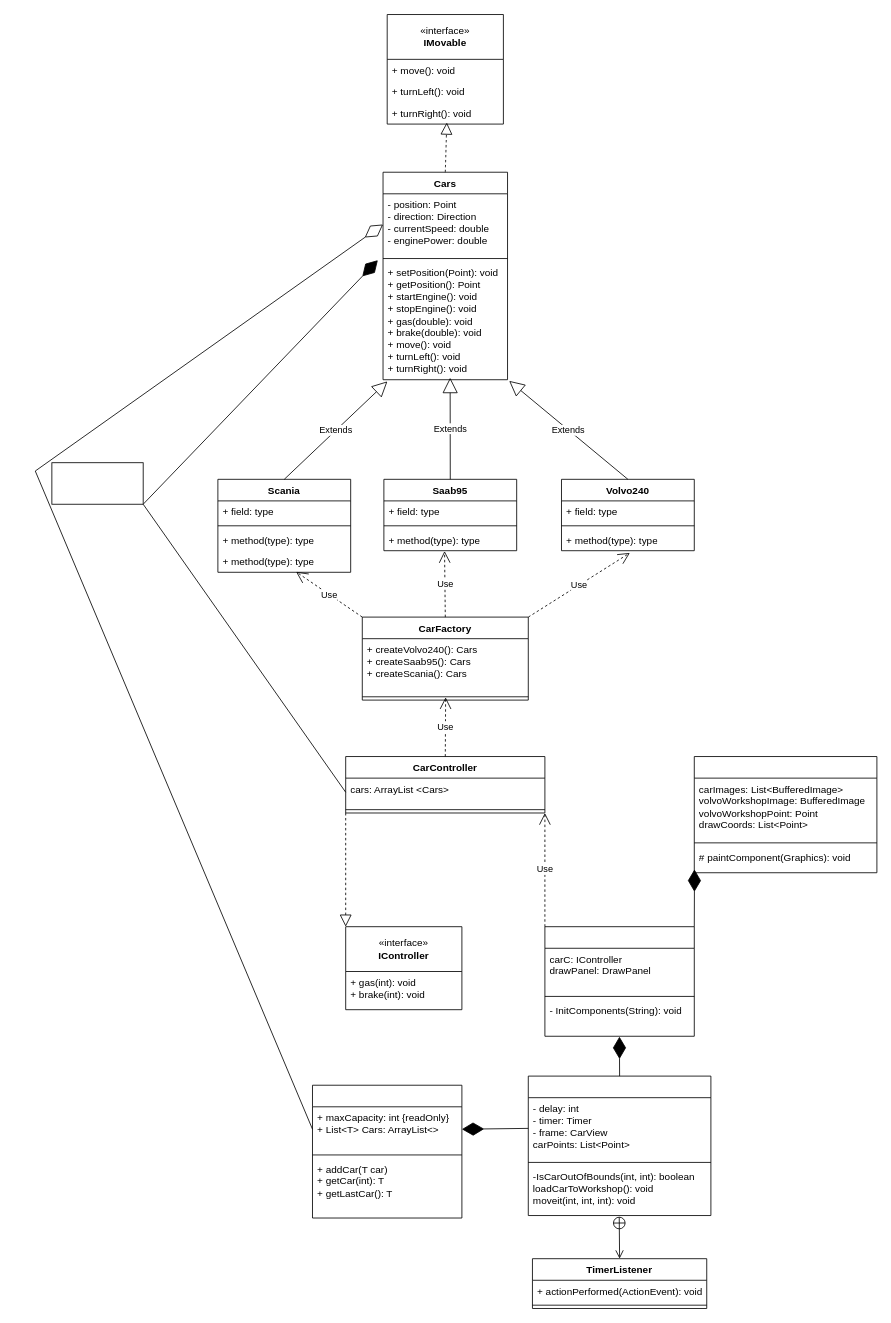
This 891x1323 diagram has some shape labels left out. Here are the shapes that lost their labels. From the top down, the box of each, then its label:
(51, 462, 143, 504): <Implement Manager Here>
(693, 756, 877, 873): DrawPanel
(544, 926, 694, 1036): CarView
(312, 1084, 462, 1218): Garage
(527, 1075, 711, 1216): CoordinateInteractions
